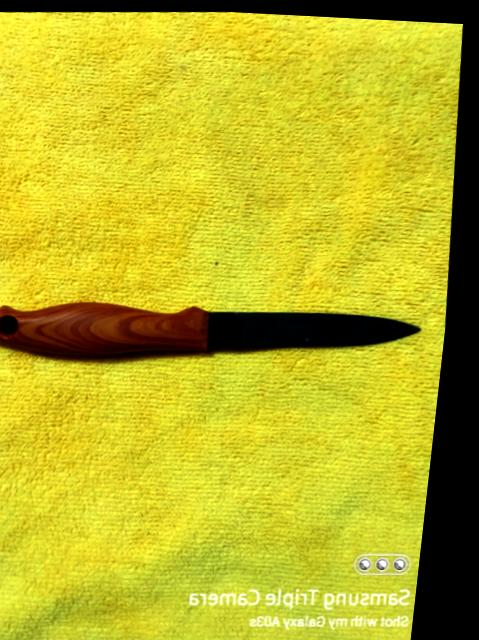Knife: (0, 302, 419, 356)
